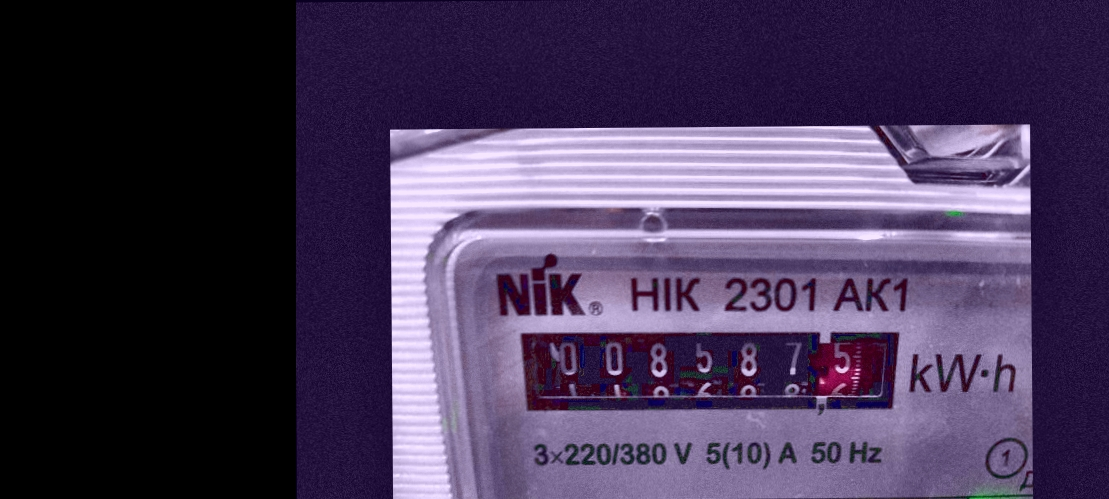0: (602, 337, 626, 377)
1: (556, 337, 580, 379)
5: (831, 336, 855, 376), (693, 337, 716, 376)
7: (782, 338, 805, 379)
8: (646, 339, 671, 380), (738, 338, 759, 379)
screen: (501, 310, 919, 432)
